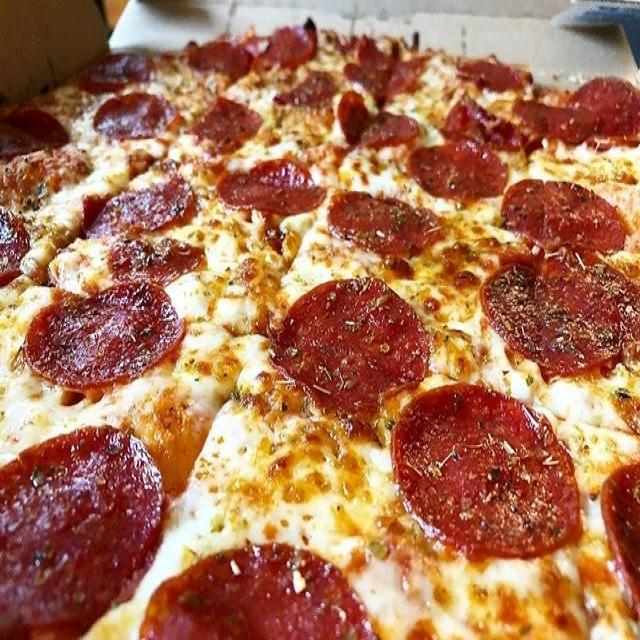pepperoni: (0, 423, 162, 640), (390, 382, 580, 554), (139, 537, 369, 640), (271, 277, 431, 407), (477, 247, 624, 381), (24, 279, 184, 391), (502, 175, 629, 262), (329, 184, 441, 265), (86, 172, 195, 242), (406, 141, 509, 206), (216, 159, 326, 218), (601, 456, 640, 606), (437, 98, 531, 155), (339, 88, 422, 150), (190, 95, 263, 157), (107, 242, 209, 286), (0, 105, 72, 163), (572, 76, 640, 136), (513, 99, 597, 144), (96, 93, 174, 138), (341, 60, 414, 108), (253, 18, 315, 72), (268, 69, 335, 112), (358, 34, 428, 75), (79, 54, 150, 93), (185, 42, 252, 83), (456, 54, 526, 92), (0, 210, 29, 282)
pizza: (0, 22, 640, 640)
